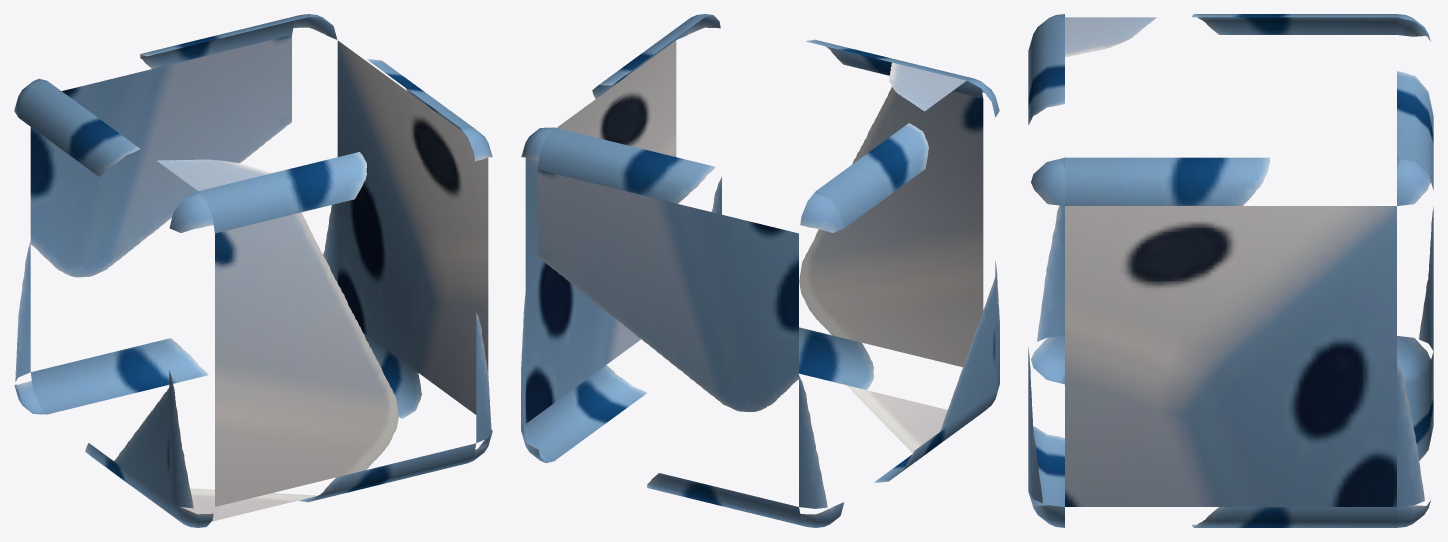
Rendered from dice.fbx.
The picture shows the model from 3 angles, left to right: view 1: azimuth 30°, elevation 25°; view 2: azimuth 150°, elevation 25°; view 3: azimuth 270°, elevation 25°; orthographic projection. The views are drawn at different scales.
Parts seen in each view (by area): view 1: dice; view 2: dice; view 3: dice.
Boxes of the visible parts, <box> form: dice: <box>14,14,492,527</box>; dice: <box>521,14,999,527</box>; dice: <box>1028,14,1433,527</box>.
Bounding box in the file's own units: 0.2521 × 0.2521 × 0.2521.
